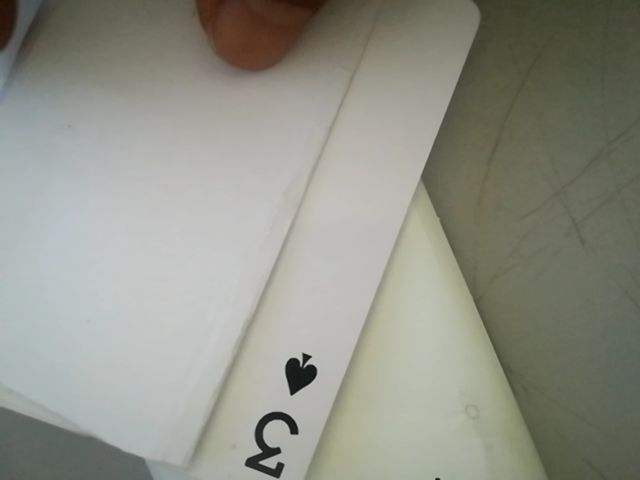ht 3: (223, 348, 330, 480)
